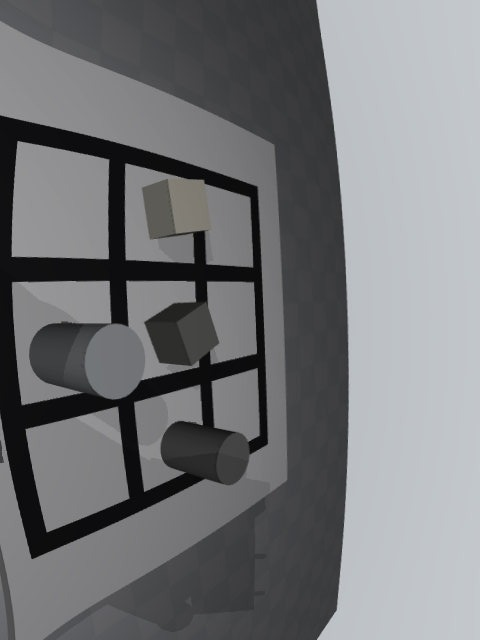can: (29, 323, 145, 400)
cube: (145, 302, 219, 366)
cylinder: (161, 421, 250, 485)
foam: (142, 179, 212, 240)
